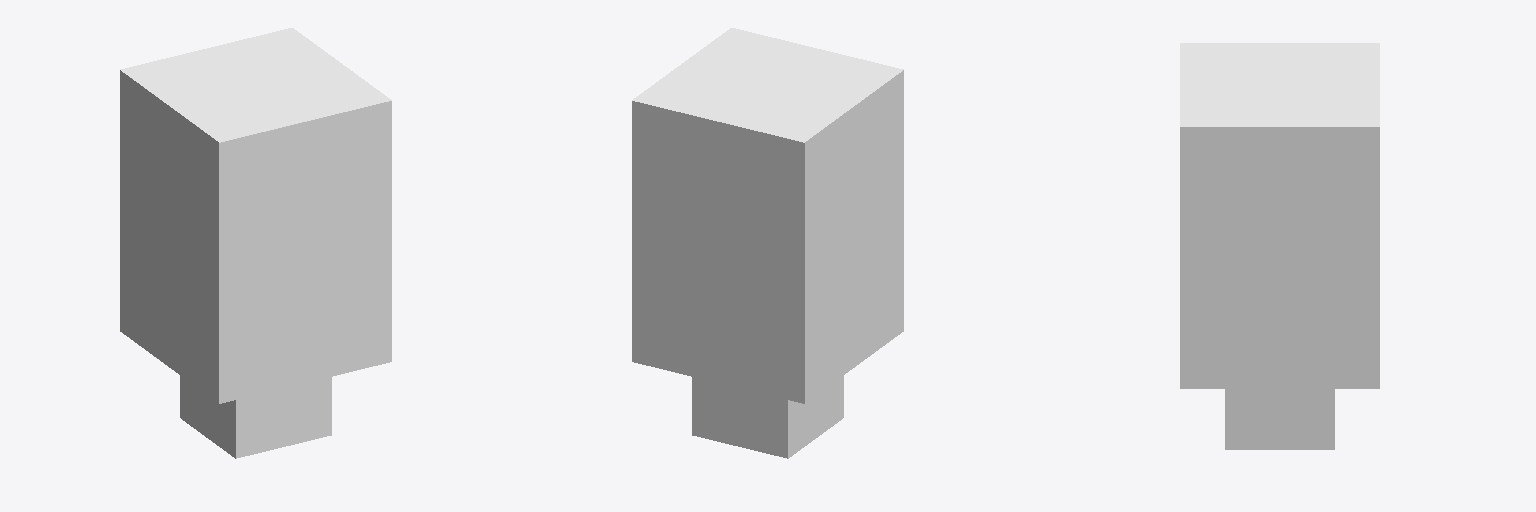
File: CrossyTree03.obj
3 renders of one model, left to right at view 1: azimuth 30°, elevation 25°; view 2: azimuth 150°, elevation 25°; view 3: azimuth 270°, elevation 25°, orthographic.
Visible parts, largest first — view 1: object 1; view 2: object 1; view 3: object 1.
Part boxes in pixels (bbox=[...]): object 1: bbox=[120, 28, 391, 458]; object 1: bbox=[632, 28, 903, 458]; object 1: bbox=[1180, 43, 1379, 449].
Size of the model in its own units: 0.9 by 1.7 by 0.9.